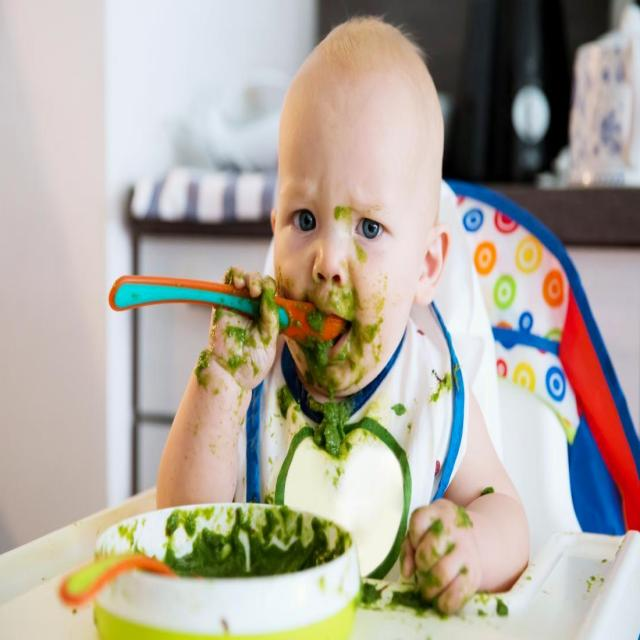child: (58, 16, 529, 637)
